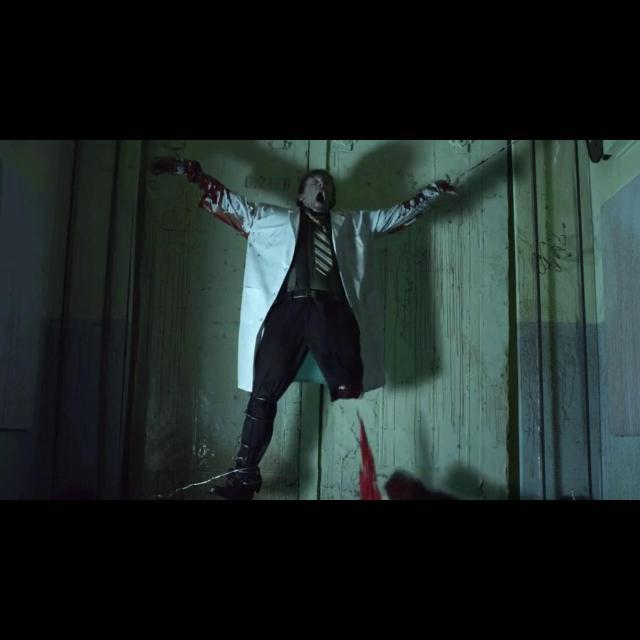blood: (150, 156, 240, 230), (200, 188, 256, 243), (359, 412, 381, 500), (400, 180, 457, 210)
